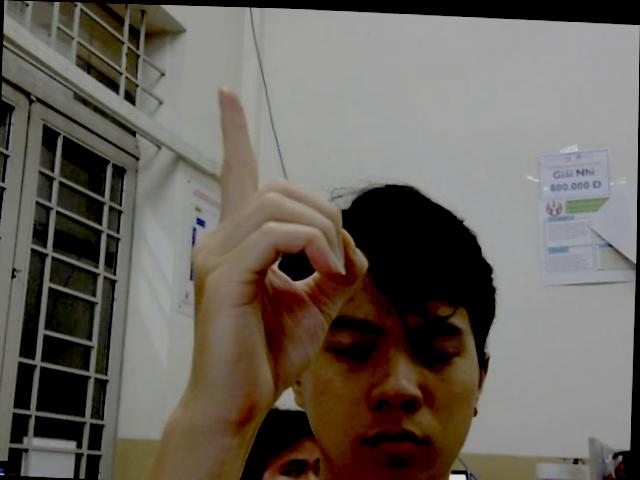D: (184, 81, 371, 415)
